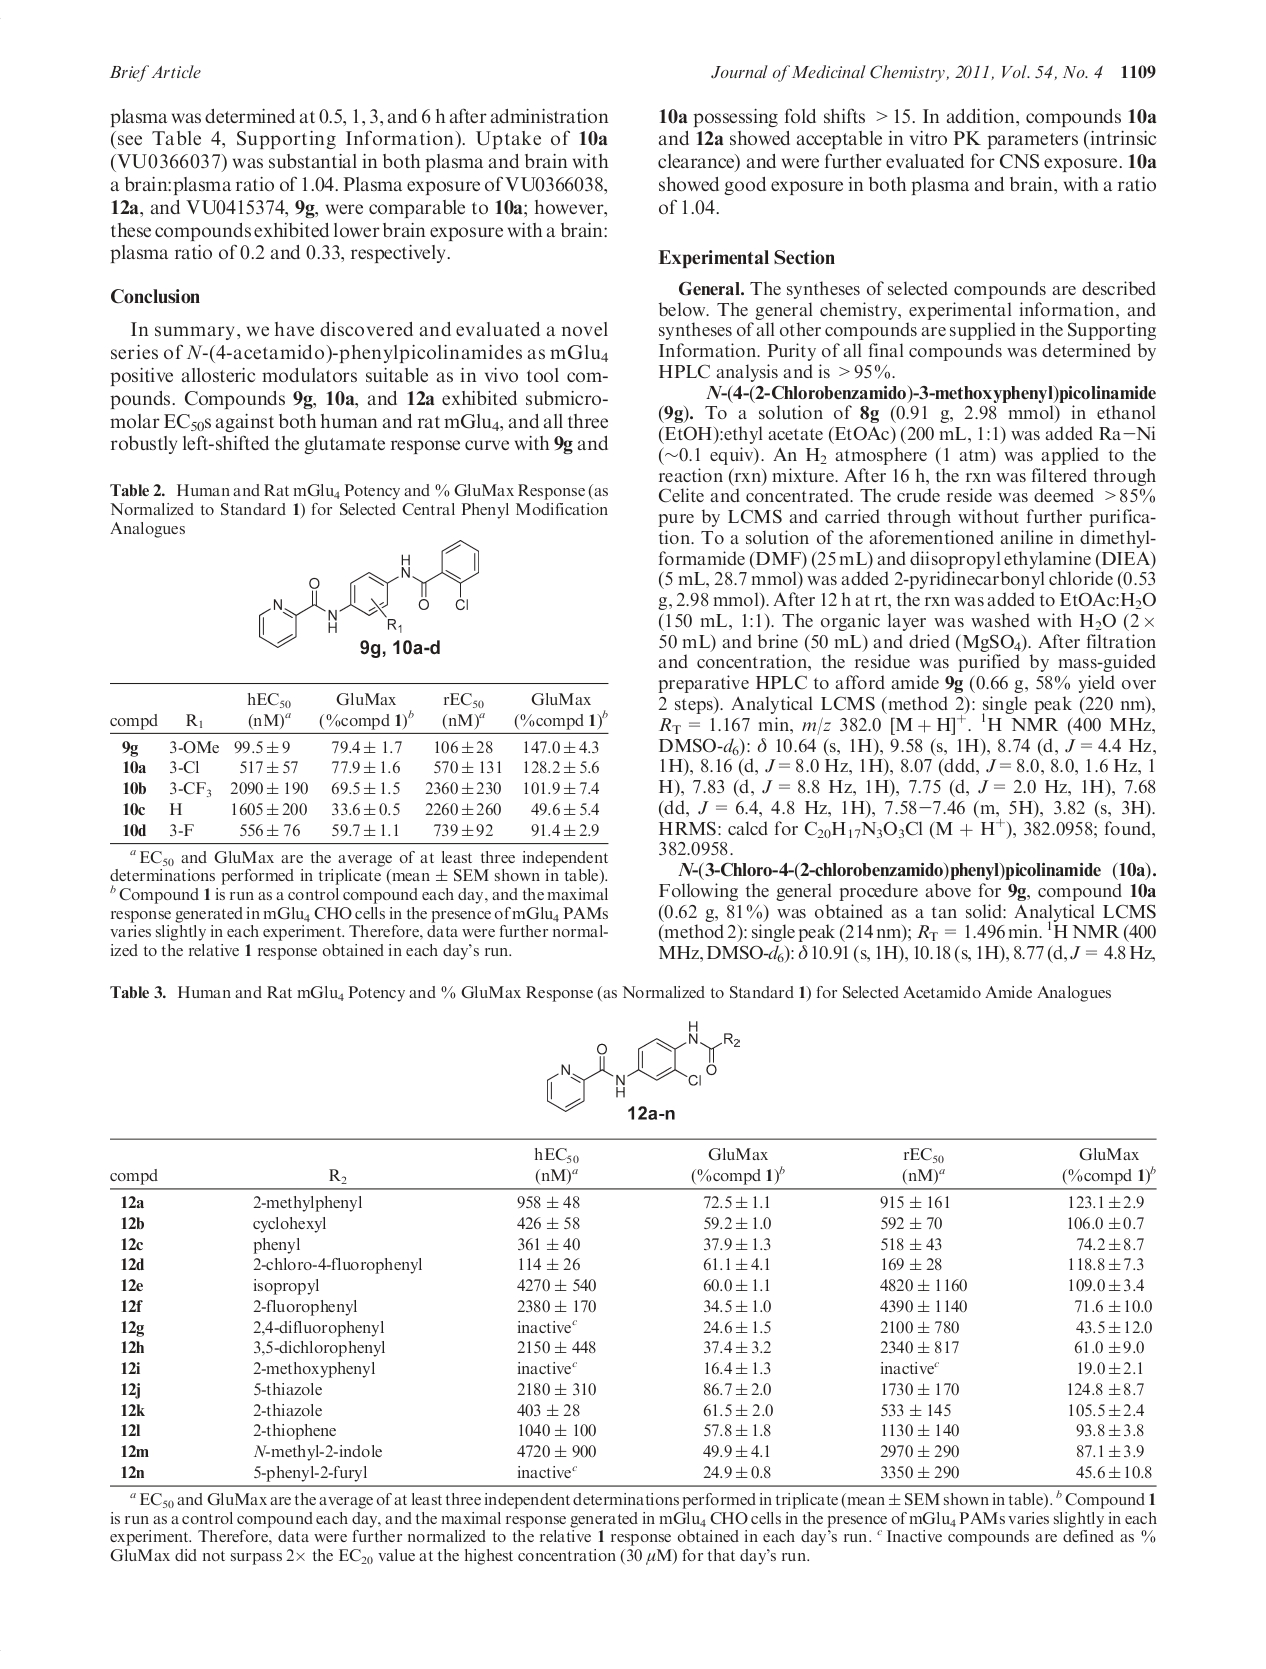exist_molecular: (257, 535, 483, 652), (543, 1017, 741, 1113)
